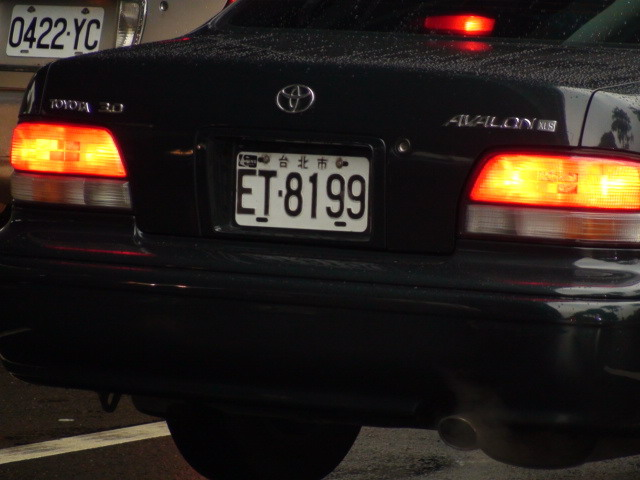plate: (231, 144, 373, 239), (5, 2, 107, 62)
